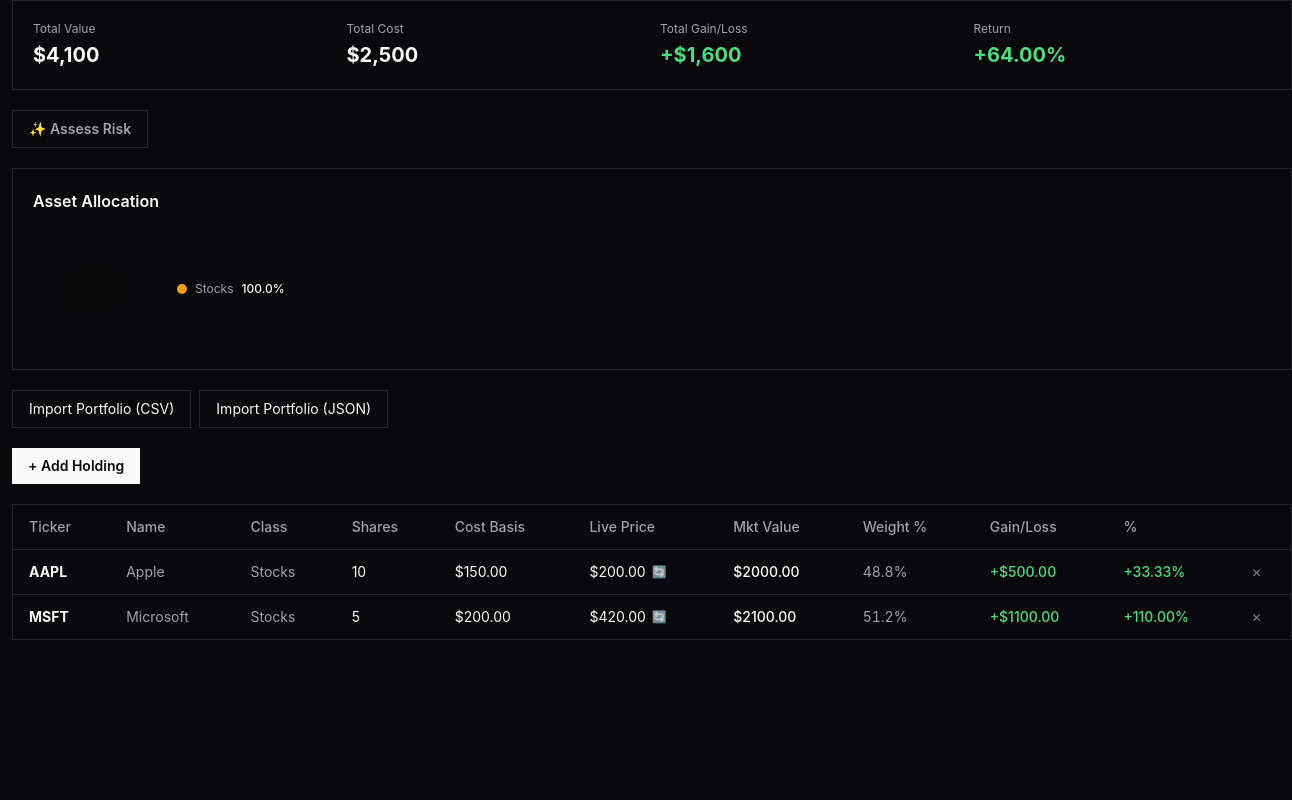
Scenario: Portfolio - Assess Risk › shows risk assessment card after success
The image size is (1292, 800).
Click the button with test id "assess-risk-btn".
click(80, 129)  # box top-left (12, 110), bottom-right (148, 148)
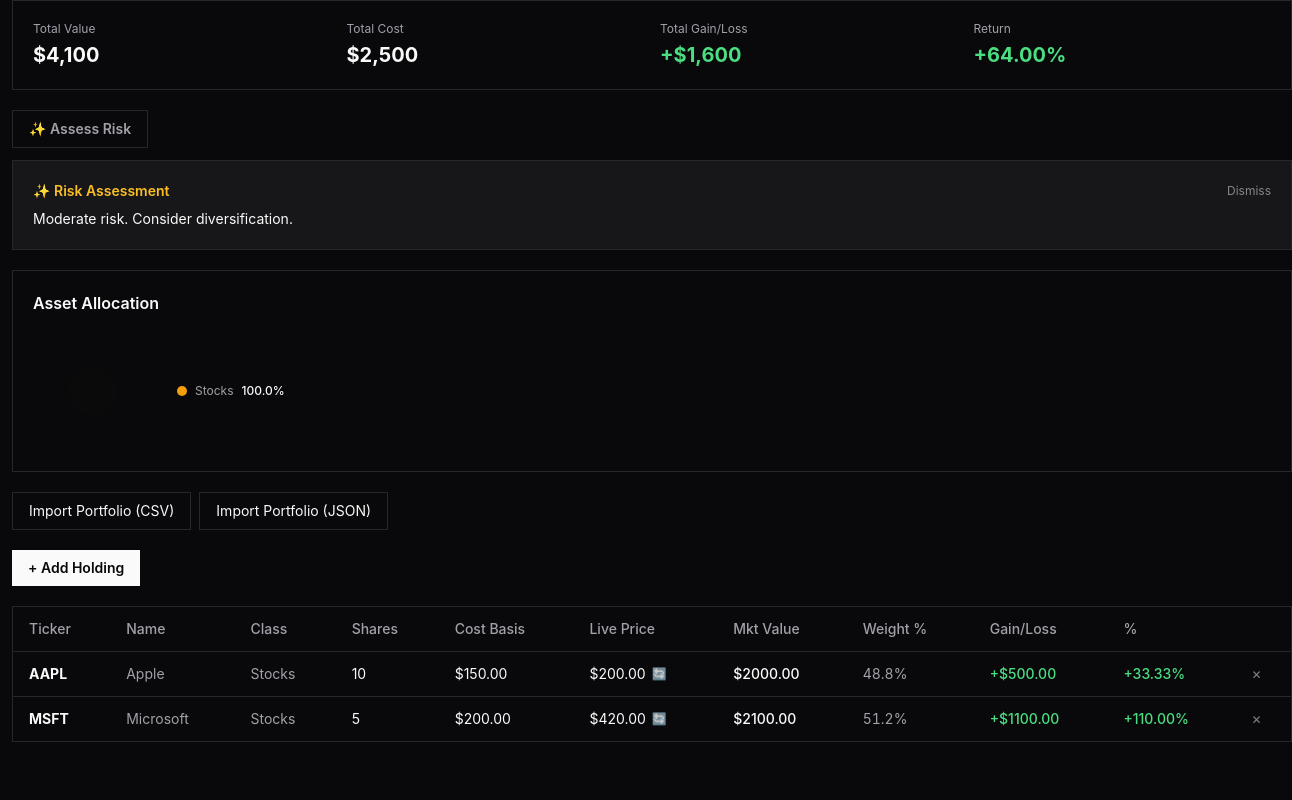
Expected: the element with test id "risk-card" is shown, top-left (12, 160), bottom-right (1291, 250)
Expected: the text "Moderate risk. Consider diversification." is shown, top-left (33, 210), bottom-right (293, 227)
